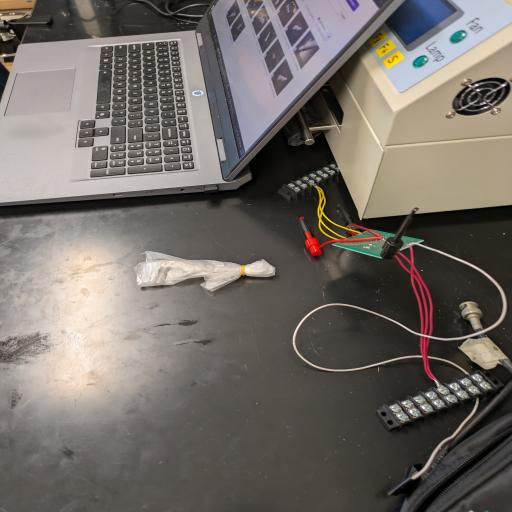rubberband: (133, 250, 276, 295)
